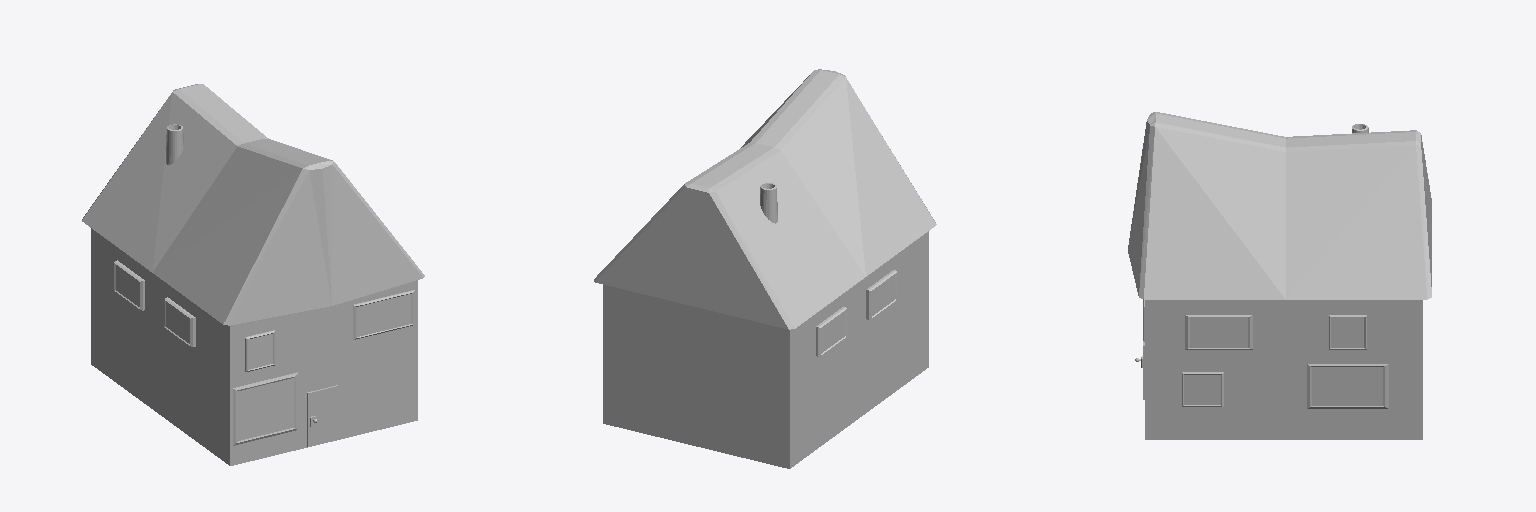
File: house_model_2.obj
3 renders of one model, left to right at view 1: azimuth 30°, elevation 25°; view 2: azimuth 150°, elevation 25°; view 3: azimuth 270°, elevation 25°, orthographic.
Visible parts, largest first — view 1: roof2; view 2: roof2; view 3: roof2.
Part boxes in pixels (x1,y1,x2,y2): roof2: (82,84,424,465); roof2: (594,69,936,468); roof2: (1128,112,1431,439).
Bounding box in the file's own units: 102 × 134 × 134.